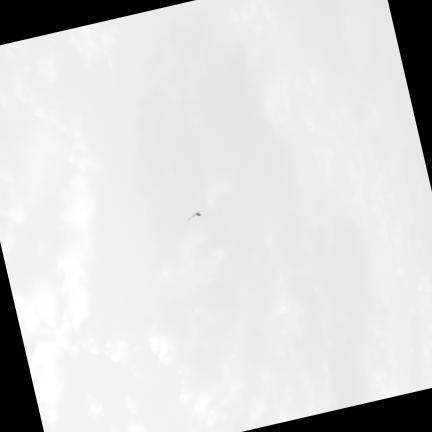Shahed: (187, 212, 201, 220)
